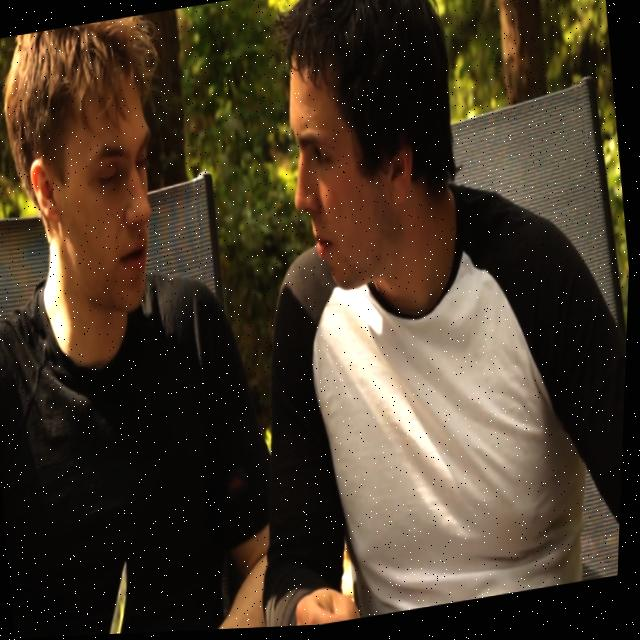knife: (90, 554, 145, 636)
